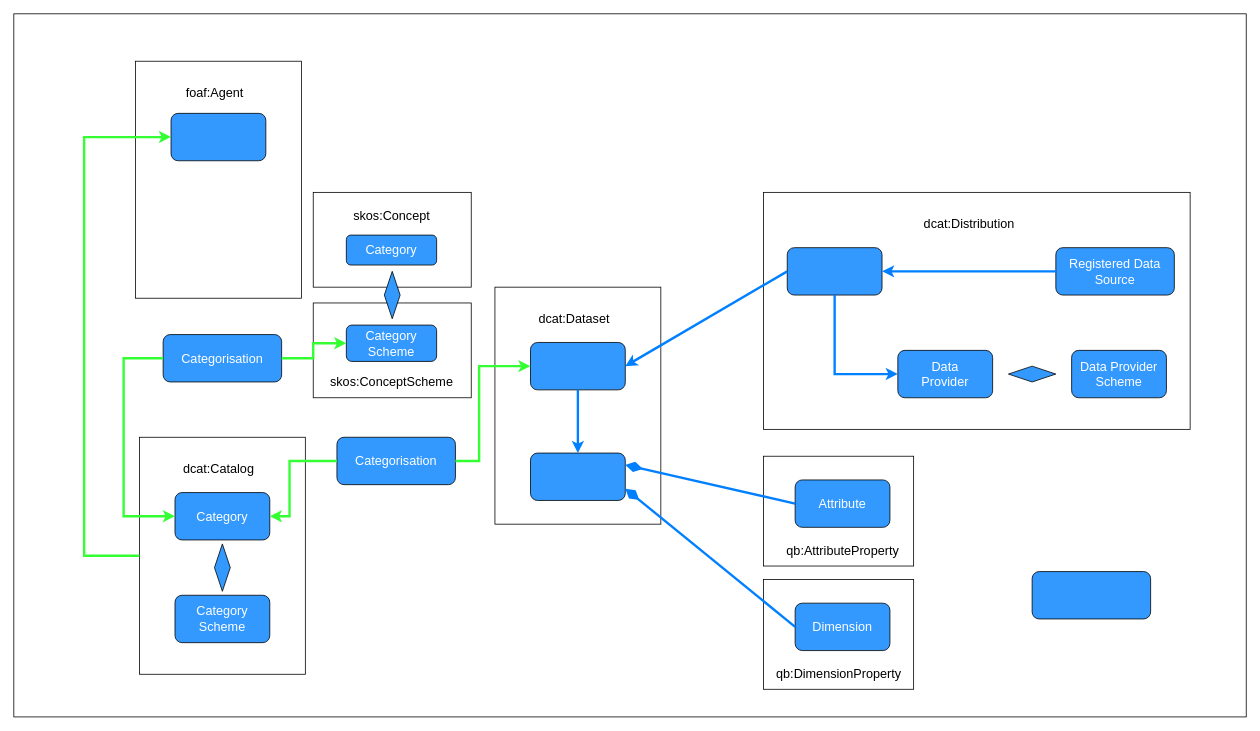
Image size: 1260x731. Some labels were removed from this diagram. The centre of each missing label's shape, as x and y in pixels:
"Agency" belongs at [218,137].
"Data Flow" belongs at [577,366].
"Data Structure" belongs at [577,476].
"Provision Agreement" belongs at [834,271].
"These are SDMX Classes" belongs at [1091,595].
